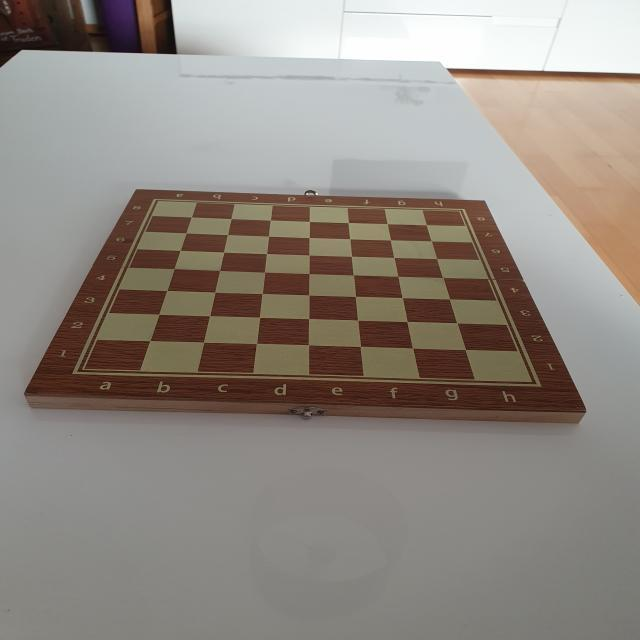chess-table-corners: (69, 363, 94, 379), (524, 375, 548, 391), (149, 195, 167, 209), (454, 205, 469, 218)
